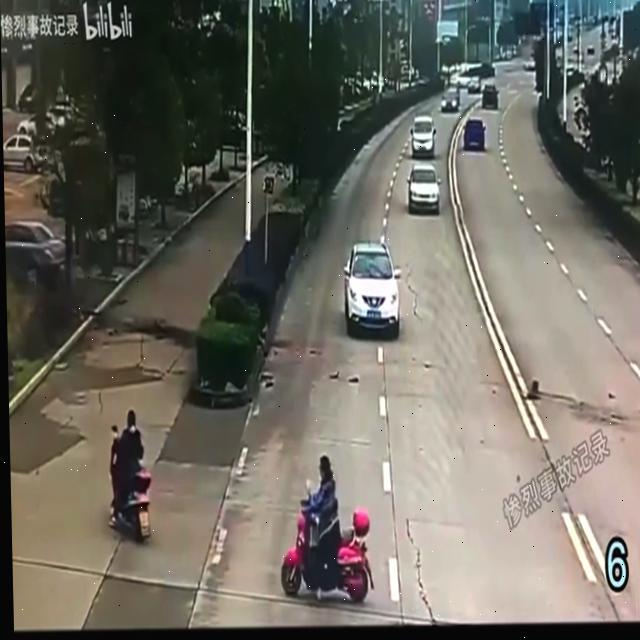normal: (267, 427, 389, 619), (334, 237, 427, 355), (89, 403, 161, 550), (386, 104, 469, 219)
